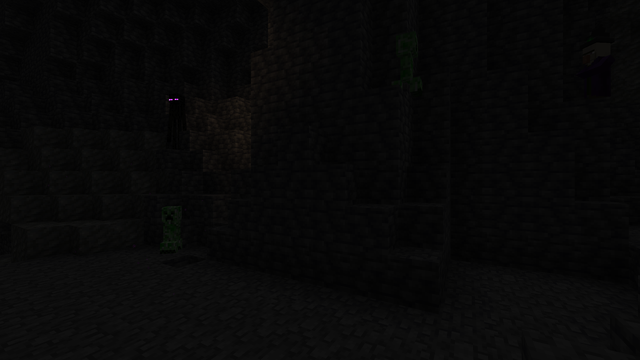creepers: (393, 26, 419, 97), (159, 203, 184, 253)
endermens: (167, 90, 185, 138)
sorcieres: (580, 37, 612, 102)
